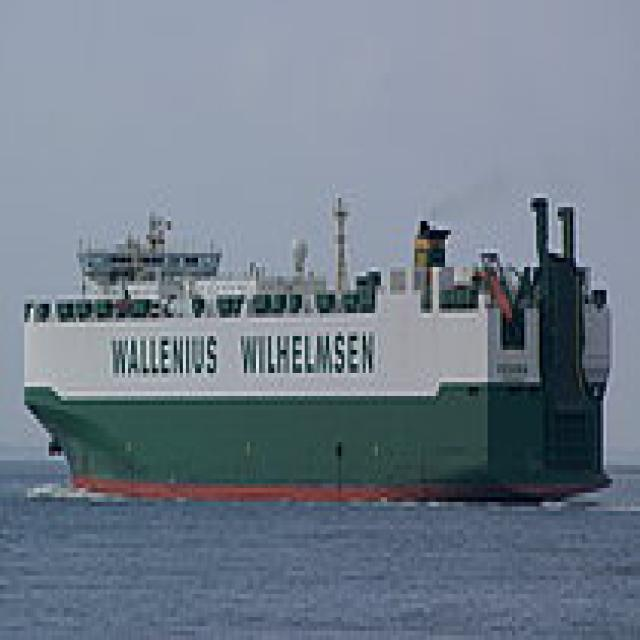Carrier: (12, 189, 616, 506)
